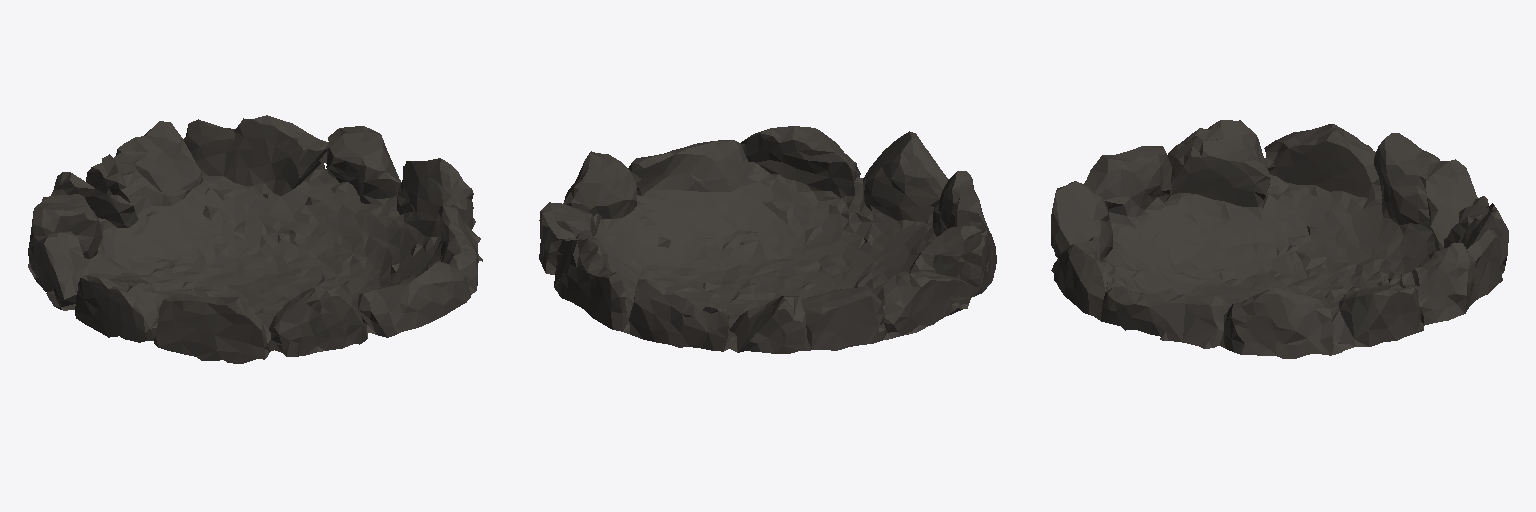
3 views of the same model, side by side, from view 1: azimuth 30°, elevation 25°; view 2: azimuth 150°, elevation 25°; view 3: azimuth 270°, elevation 25° (orthographic).
Visible parts, largest first — view 1: stone_fire_pit; view 2: stone_fire_pit; view 3: stone_fire_pit.
Boxes of the visible parts, x1=… form: stone_fire_pit: x1=28, y1=115, x2=482, y2=363; stone_fire_pit: x1=539, y1=126, x2=996, y2=353; stone_fire_pit: x1=1051, y1=120, x2=1508, y2=358.
Size of the model in its own units: 1.45 by 0.3883 by 1.43.
1 materials, 1 textured.